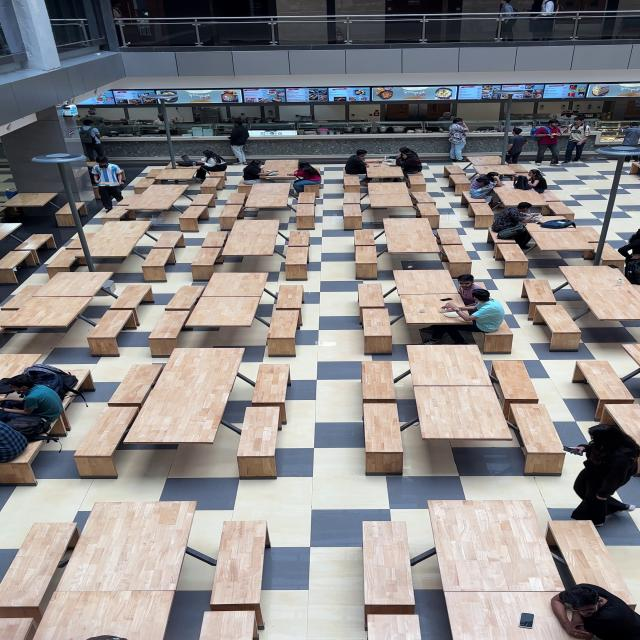Occupied: (443, 590, 587, 640), (444, 277, 522, 346), (563, 582, 640, 639), (428, 289, 506, 344), (0, 374, 64, 425), (477, 204, 548, 246), (468, 173, 504, 207), (289, 163, 323, 198), (453, 275, 489, 308), (344, 150, 374, 188), (192, 152, 228, 182), (466, 172, 504, 200), (242, 159, 278, 186), (393, 150, 423, 178), (518, 170, 556, 192)
Unoccupied: (396, 364, 626, 480), (53, 502, 199, 594), (422, 499, 556, 588), (123, 354, 245, 445), (73, 370, 164, 474), (544, 519, 637, 612), (30, 590, 180, 640), (567, 424, 639, 522), (0, 522, 78, 612), (444, 591, 587, 640), (347, 519, 422, 605), (543, 517, 625, 581), (416, 387, 512, 441), (552, 583, 639, 640), (211, 520, 268, 606), (556, 268, 640, 323), (510, 408, 566, 471), (0, 296, 97, 332), (68, 224, 153, 264), (235, 406, 281, 479), (109, 186, 190, 225), (523, 225, 601, 265), (575, 362, 635, 414), (408, 344, 494, 380), (491, 362, 541, 422), (362, 404, 403, 474), (354, 608, 434, 640), (182, 296, 262, 328), (217, 222, 280, 260), (33, 270, 116, 298), (252, 365, 290, 426), (379, 218, 439, 256), (400, 293, 468, 326), (108, 365, 165, 404), (534, 305, 582, 349), (20, 523, 79, 558), (199, 271, 271, 299), (240, 184, 294, 221), (86, 311, 136, 350), (0, 439, 47, 480), (492, 184, 558, 213), (599, 403, 640, 449), (30, 393, 77, 433), (196, 609, 256, 640), (392, 268, 457, 296), (0, 192, 62, 220), (522, 279, 562, 322), (147, 313, 190, 352), (367, 185, 416, 216), (362, 364, 398, 406), (50, 232, 98, 262), (475, 314, 514, 350), (109, 284, 153, 315), (365, 615, 419, 640), (361, 310, 393, 352), (462, 164, 526, 184), (585, 241, 627, 270), (358, 282, 386, 324), (0, 353, 42, 381), (44, 248, 84, 277), (496, 241, 530, 275), (140, 249, 174, 282), (164, 285, 206, 311), (266, 310, 301, 341), (1, 284, 42, 310), (190, 248, 222, 280), (440, 243, 473, 274), (490, 228, 523, 259), (0, 615, 40, 640), (0, 251, 34, 280), (152, 168, 199, 188), (366, 162, 406, 185), (367, 193, 418, 209), (284, 248, 309, 280), (275, 285, 303, 313), (178, 206, 208, 232), (336, 204, 367, 229), (232, 220, 280, 236), (63, 368, 94, 392), (542, 200, 576, 220), (15, 234, 55, 251), (468, 200, 494, 226), (445, 169, 472, 194), (218, 203, 246, 227), (295, 199, 317, 229), (153, 231, 183, 253), (261, 159, 299, 176), (55, 208, 87, 228), (187, 193, 216, 215), (365, 182, 412, 194), (417, 202, 442, 224), (620, 344, 640, 370), (200, 231, 228, 249), (200, 176, 225, 196), (223, 191, 249, 210), (437, 228, 464, 246), (47, 413, 68, 436), (100, 207, 130, 223), (0, 223, 24, 243), (338, 189, 367, 205), (342, 190, 362, 213), (353, 229, 378, 247), (65, 524, 81, 550), (409, 189, 438, 203), (162, 161, 204, 170), (288, 231, 310, 247), (298, 179, 321, 194), (133, 177, 157, 191), (296, 192, 317, 206), (145, 169, 169, 179), (237, 181, 253, 195), (468, 282, 488, 293), (85, 161, 98, 168)
